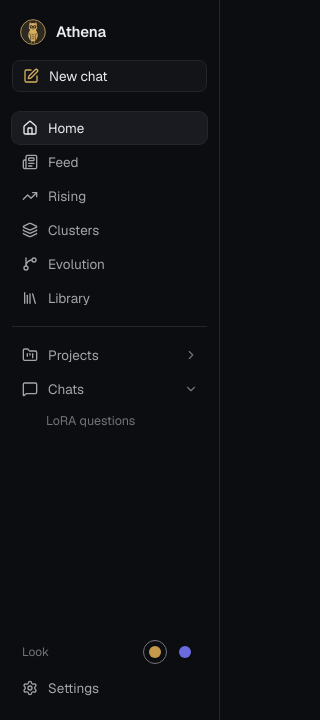
Scenario: Sidebar › lists the projects under the Projects link when opened
Check: the link "Sinhala NLP" is not shown
Click the button named "Show projects": (191, 355) [179,343,203,367]
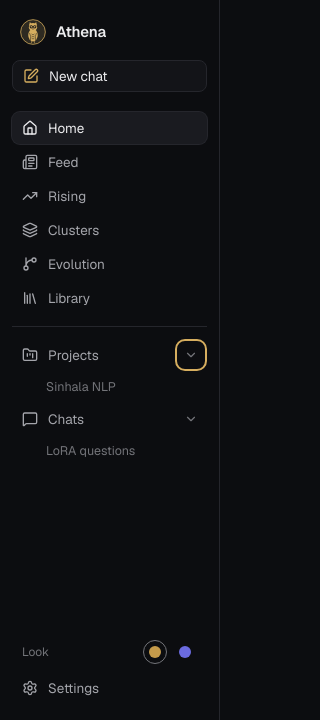
Click the button named "Hide projects": (191, 355) [179,343,203,367]
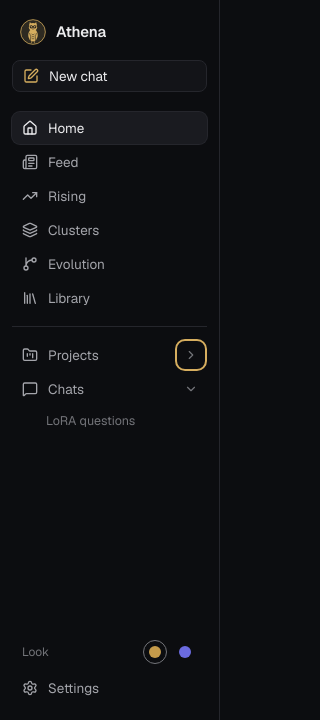
Check: the link "Sinhala NLP" is gone
